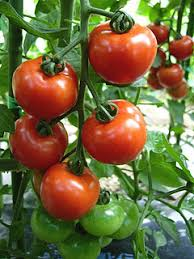tomato: (89, 19, 159, 85), (82, 98, 146, 165), (12, 56, 79, 120), (10, 113, 71, 168), (42, 163, 99, 221), (169, 33, 192, 60), (157, 66, 181, 90), (146, 22, 169, 43)
